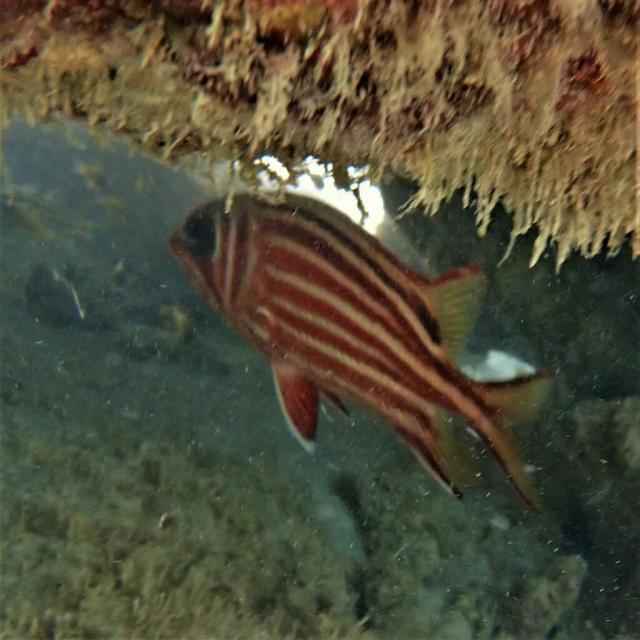Asker Baligi: (159, 161, 556, 531)
